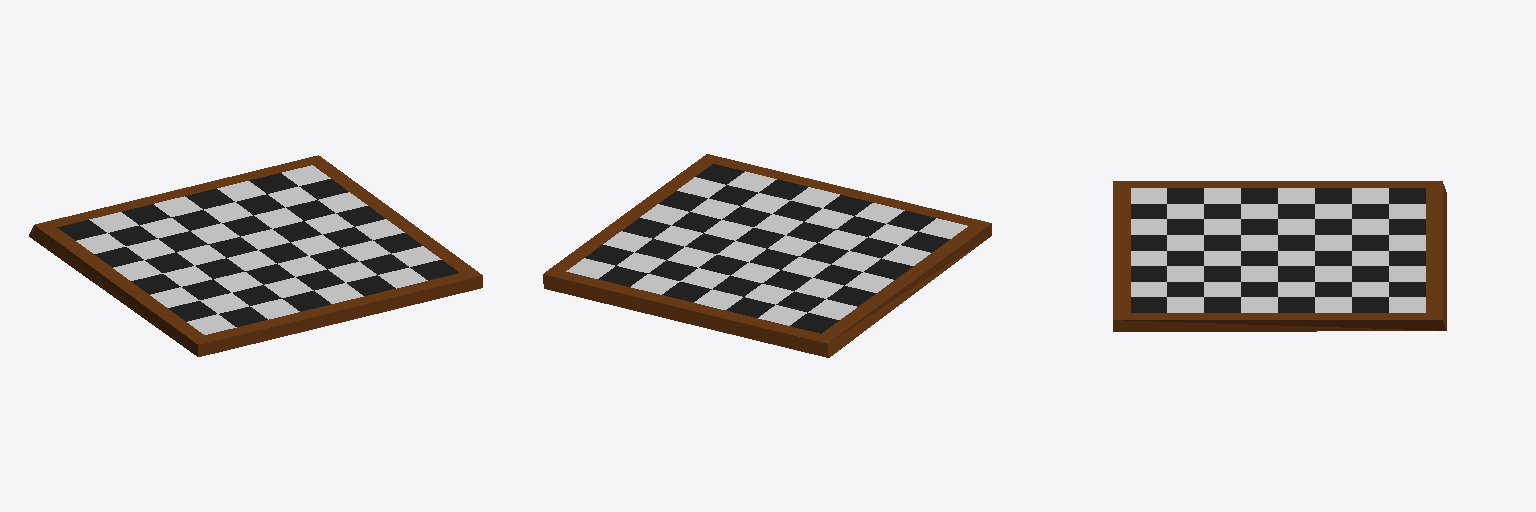
File: Chessboard.obj
3 views of the same model, side by side, from view 1: azimuth 30°, elevation 25°; view 2: azimuth 150°, elevation 25°; view 3: azimuth 270°, elevation 25° (orthographic).
Visible parts, largest first — view 1: Board; view 2: Board; view 3: Board.
Part boxes in pixels (x1,y1,x2,y2): Board: (29,155,482,356); Board: (543,154,991,357); Board: (1113,181,1446,331).
Size of the model in its own units: 13.72 by 0.5587 by 13.72.